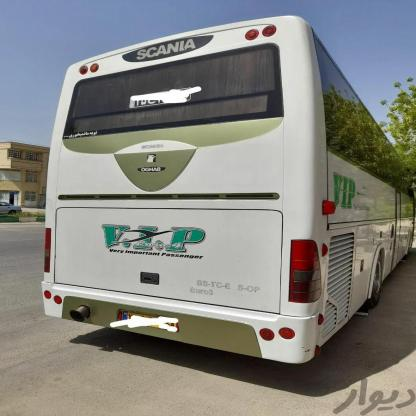Bus: (25, 16, 416, 368)
